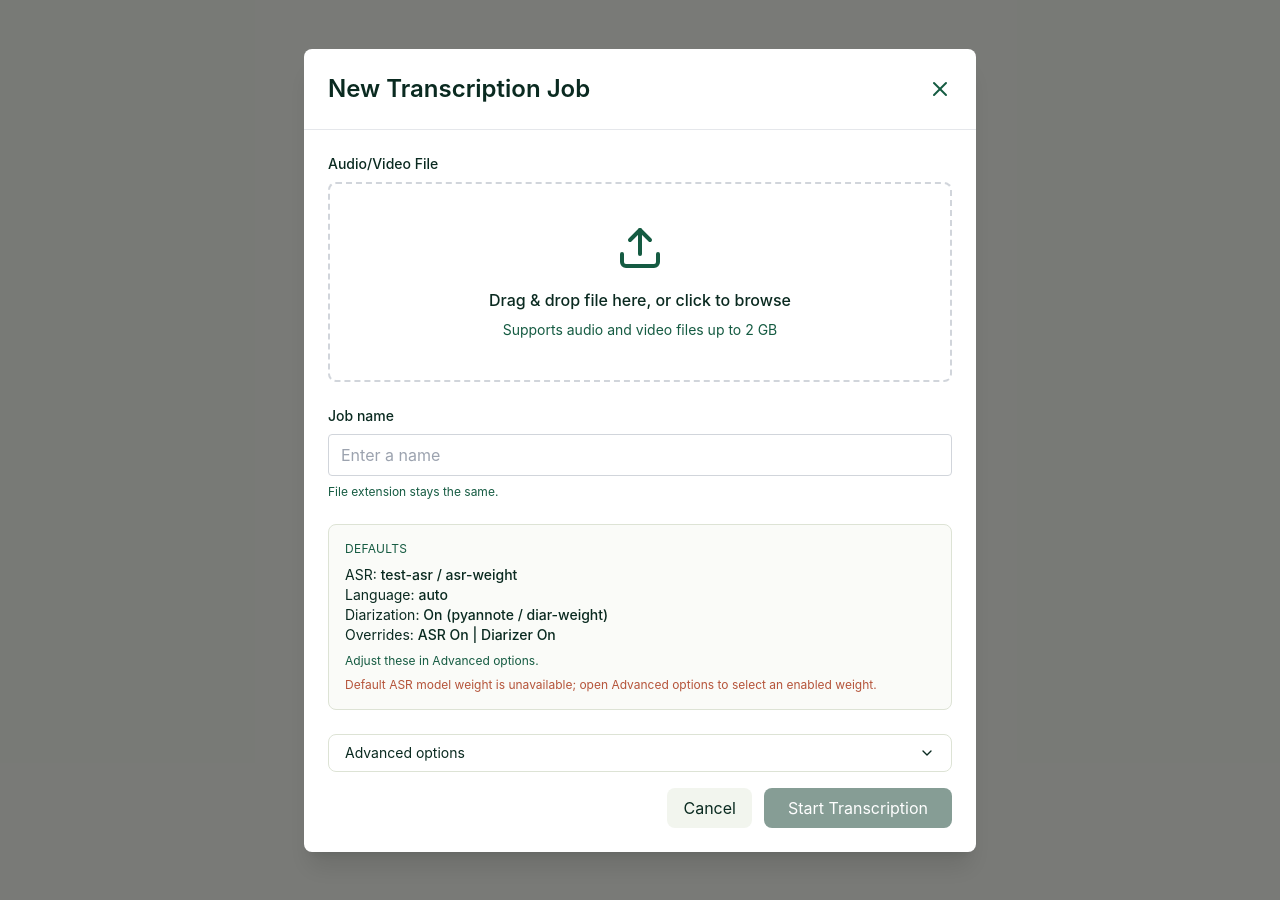
Scenario: NewJobModal › shows diarizer dropdown with options and respects defaults
Click the button with test id "advanced-toggle".
click(405, 752)  # box x1=328 y1=734 x2=952 y2=772
(page scrolled)
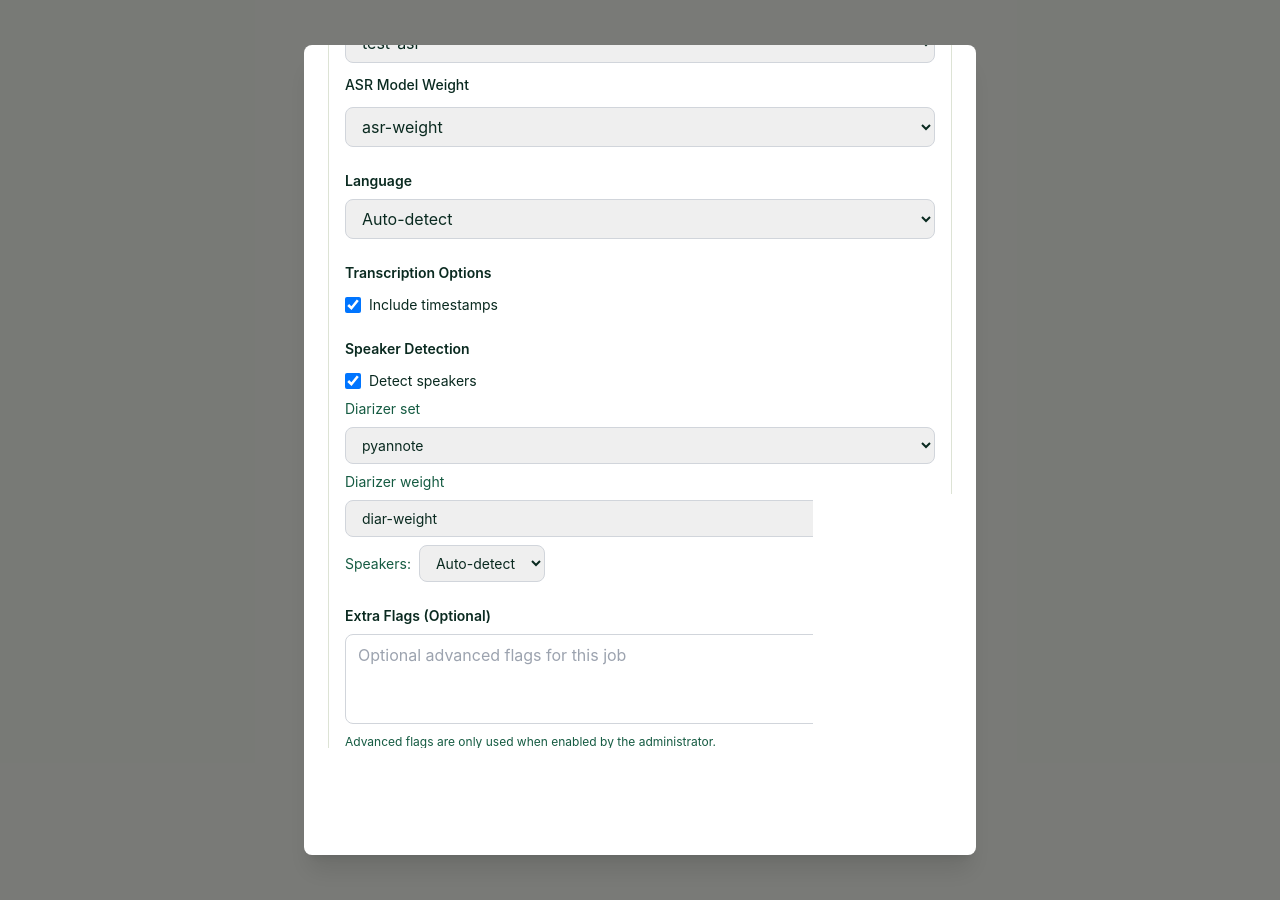
Expected: the element with test id "advanced-panel" is shown, x1=328 y1=45 x2=952 y2=767
Expected: the dropdown with test id "diarizer-select" shows "diar-weight", x1=345 y1=500 x2=935 y2=537
